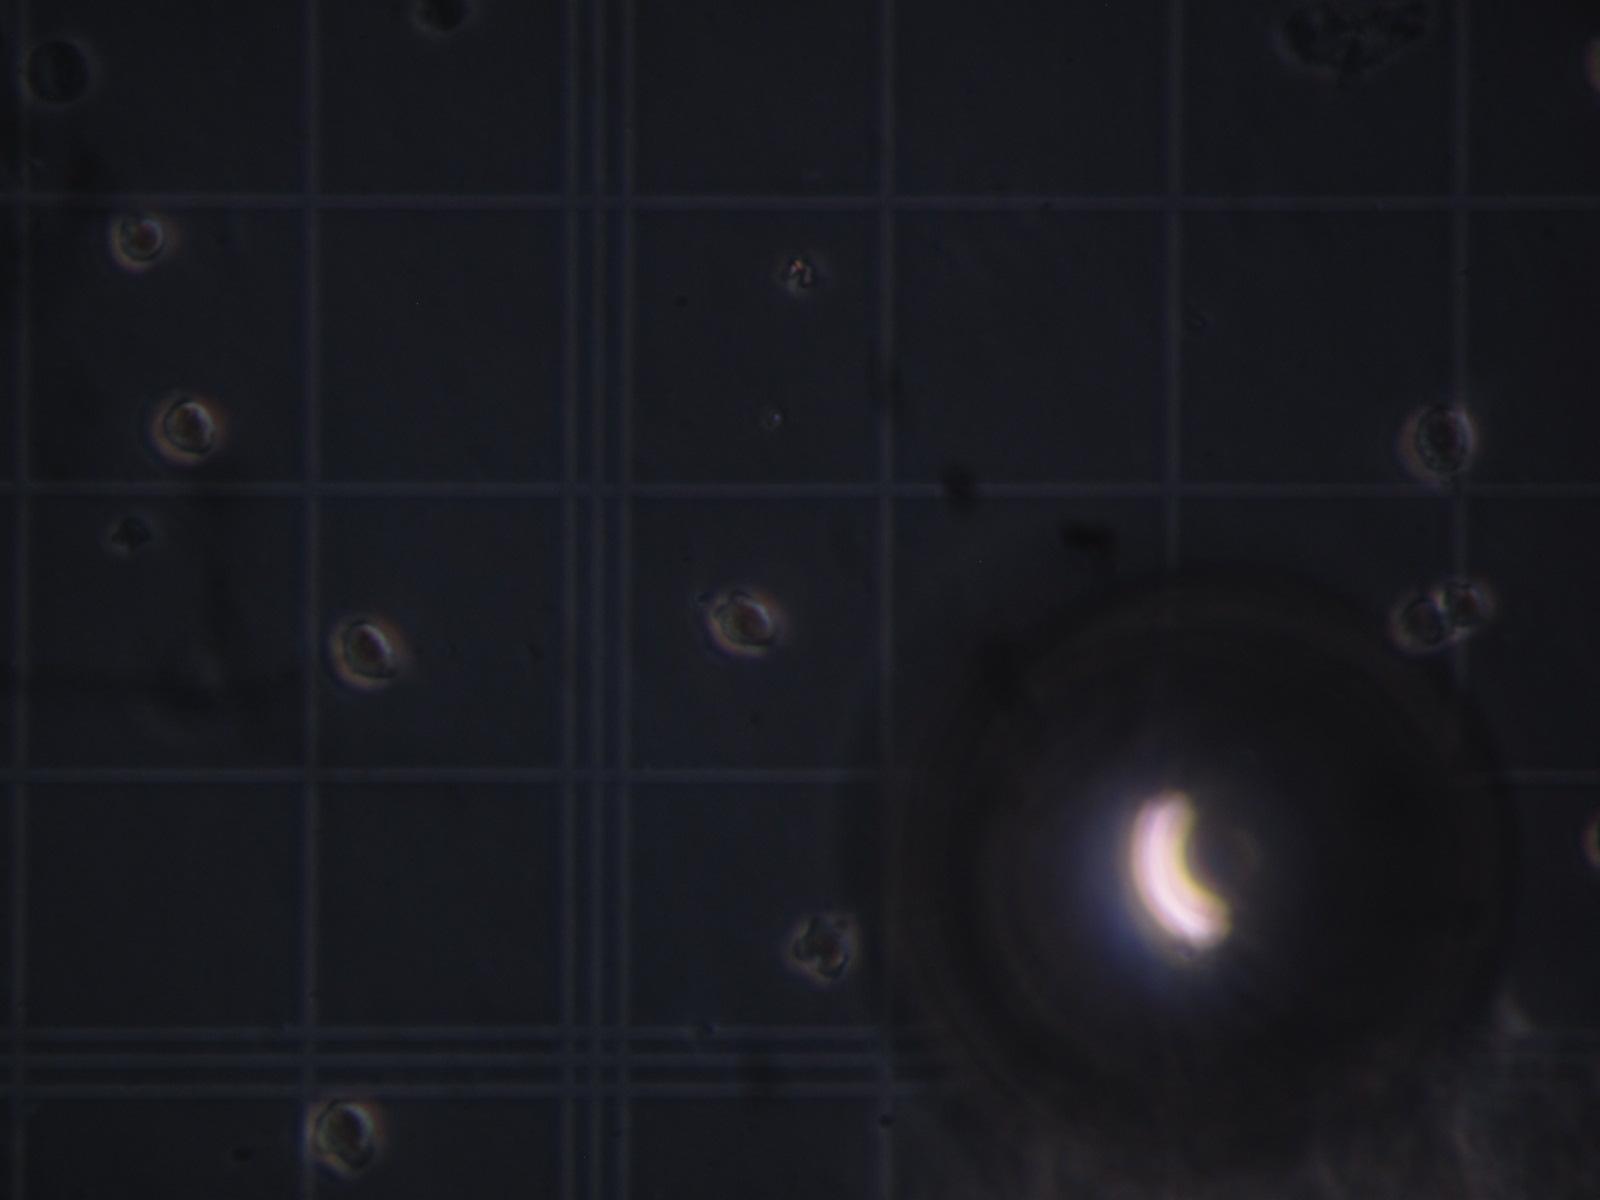hemo: (326, 610, 409, 689), (15, 35, 98, 108), (1401, 401, 1479, 476), (307, 1097, 383, 1175), (152, 393, 220, 464), (711, 590, 784, 655), (790, 914, 857, 981), (1393, 585, 1453, 654), (110, 211, 168, 270), (1440, 581, 1494, 639), (401, 1, 488, 37)
